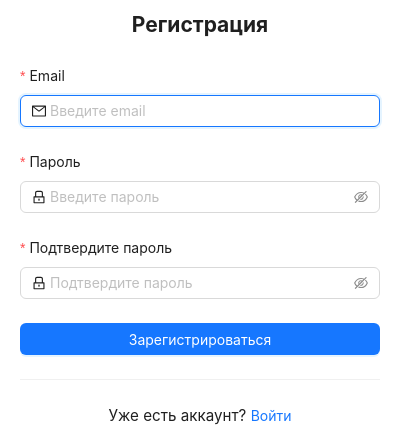
Test: RegisterForm › Валидация формы › должен показывать ошибку при пустом пароле
This screenshot has width=401, height=442.
In the field labelled "Email": coordinates (209, 111) [50,100,368,122], type "test@example.com"
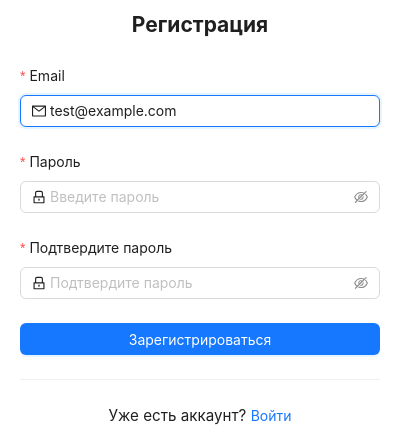
Click the button "Зарегистрироваться": coordinates (200, 339) [20,323,380,355]
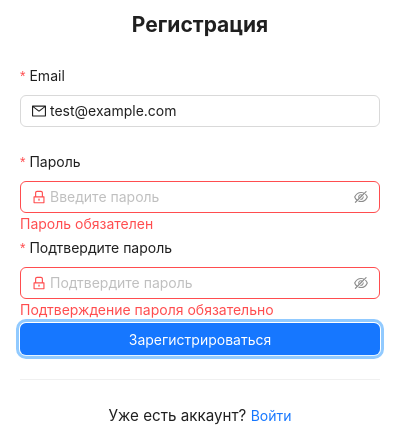
Now the text "Пароль обязателен" is shown, box [20,215,153,232]
